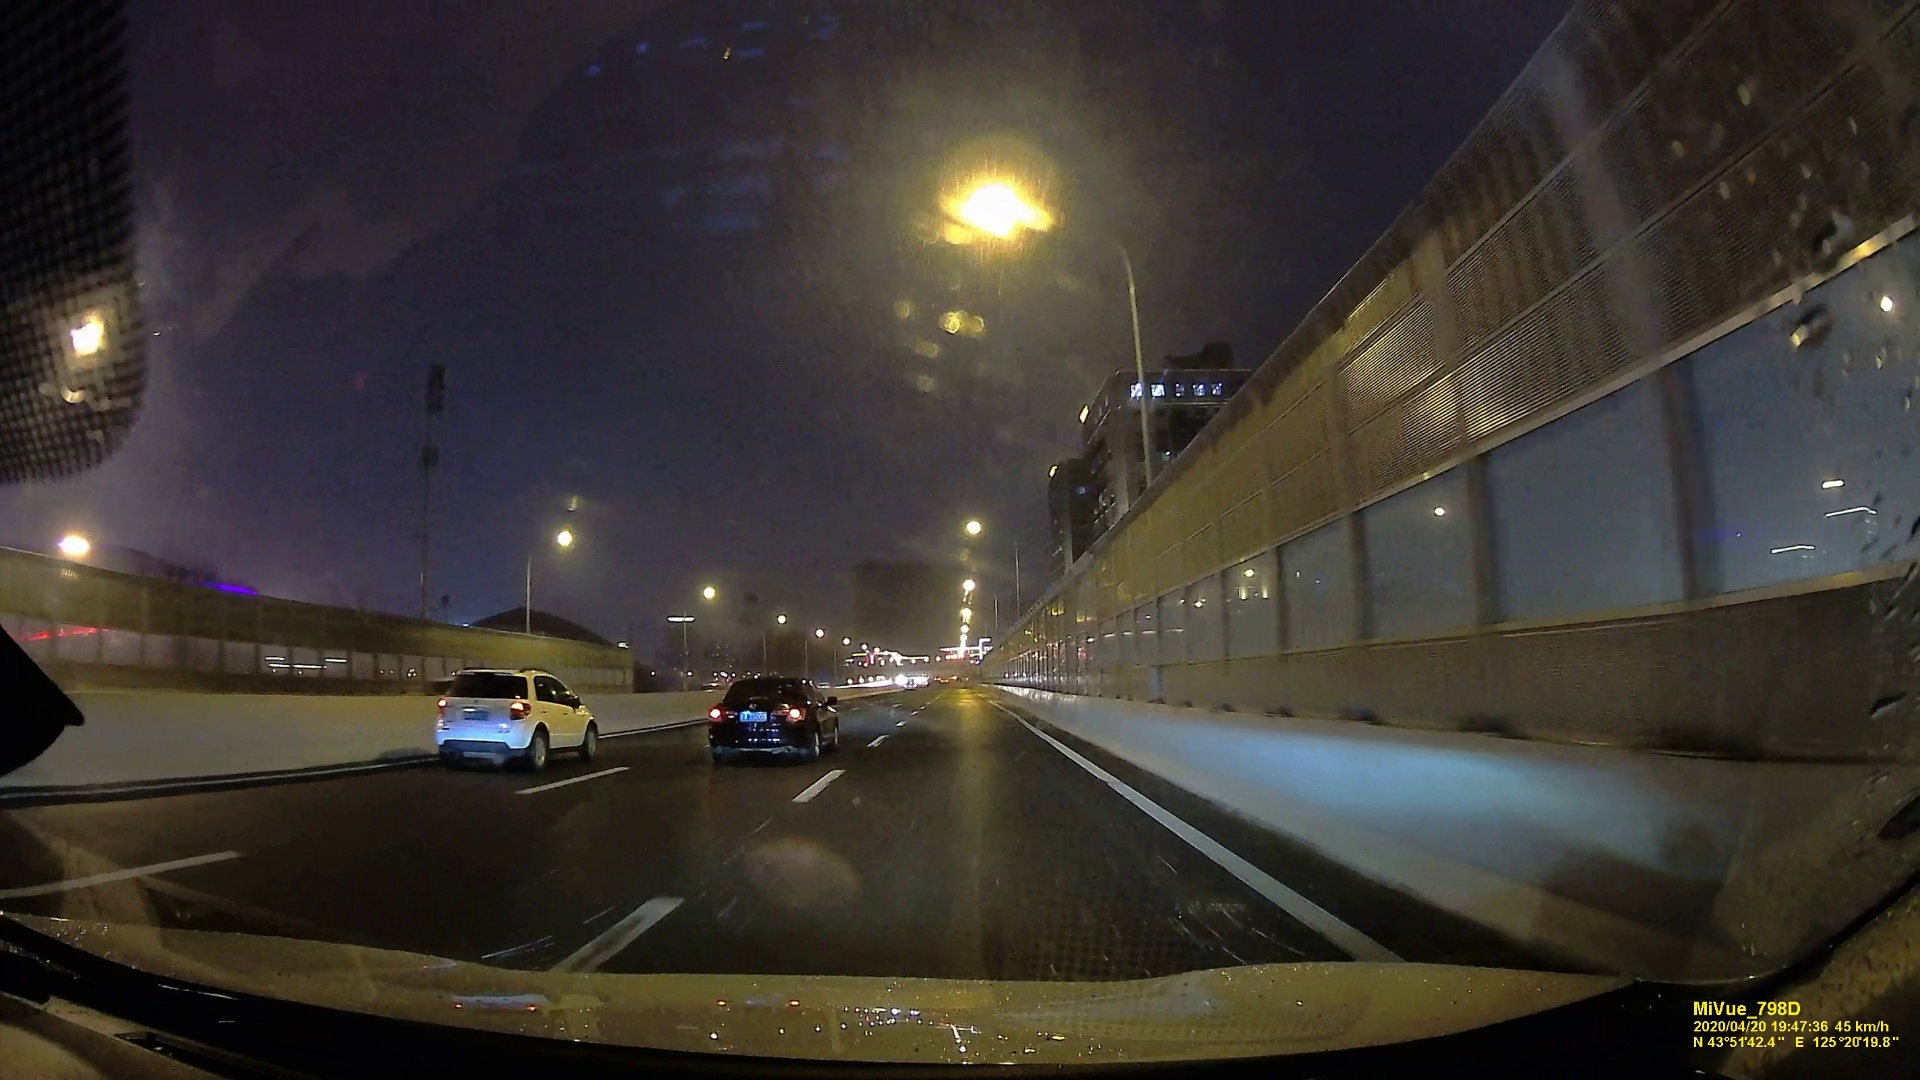vehicle: (429, 665, 593, 771), (703, 673, 843, 764)
